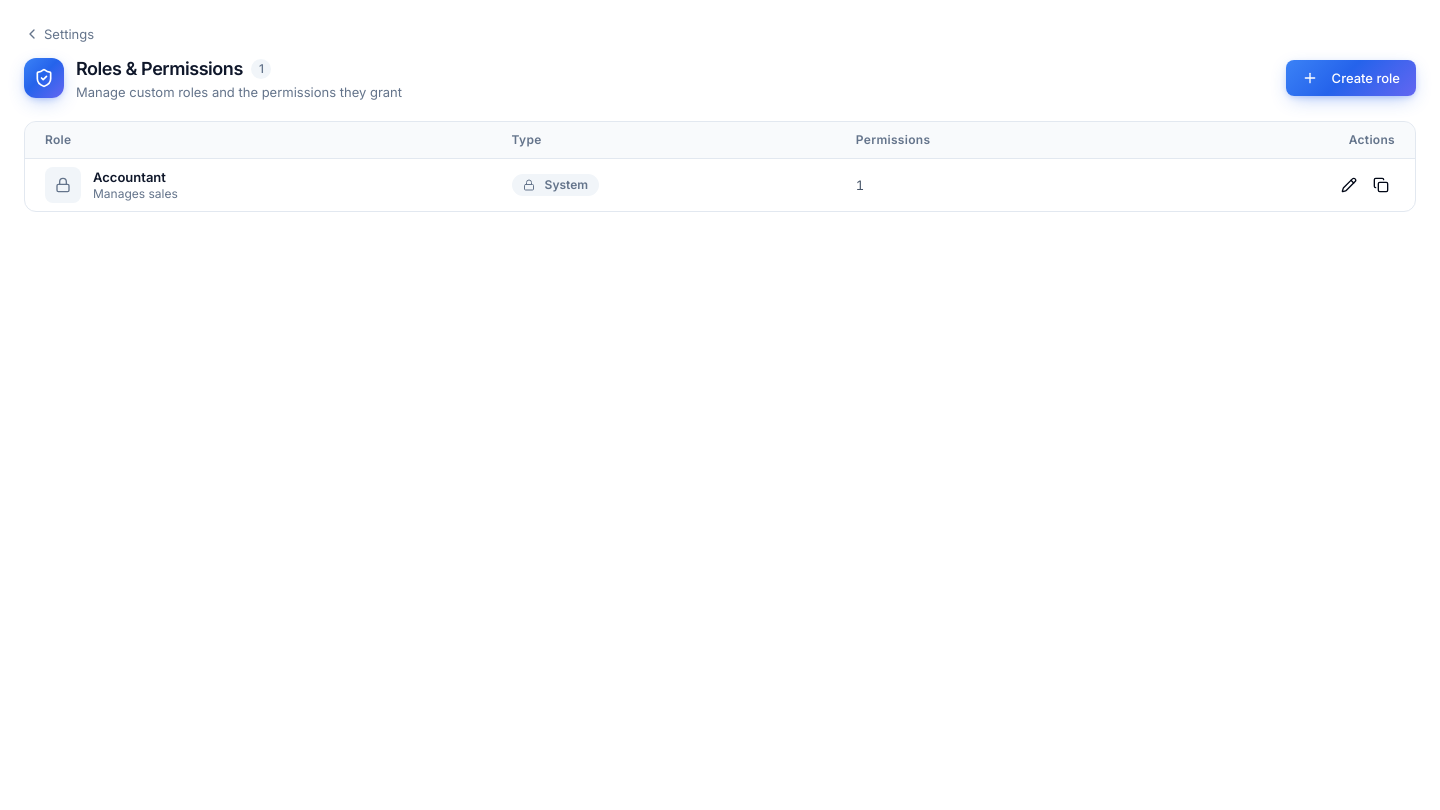
Test: RolesView › lets a non-Owner system role's permissions be edited with a locked name
Click the button named "edit accountant". click: click(1349, 184)
box: [1335,170,1363,198]
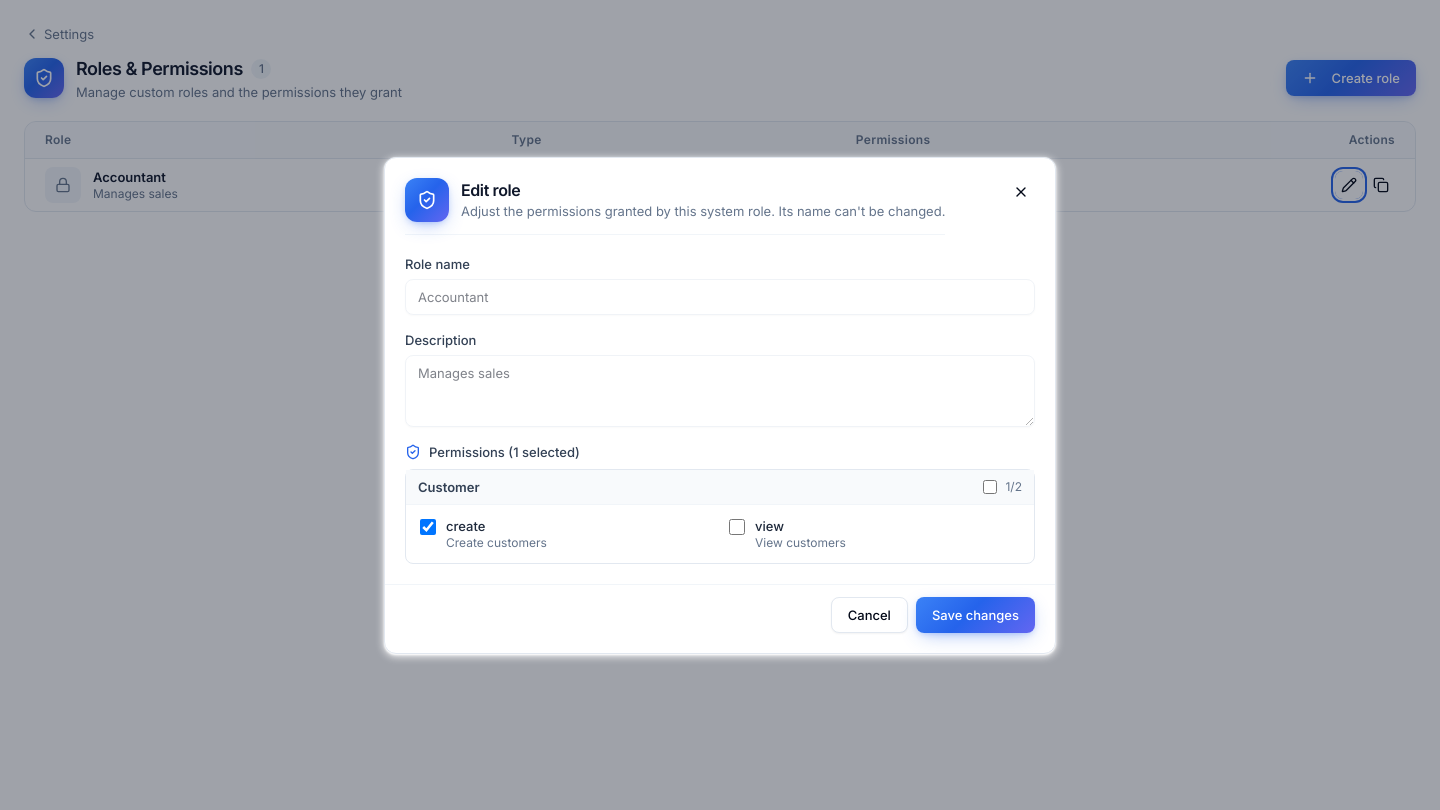
Result: the dialog "Edit role" is shown
Result: the field labelled "Role name" is disabled at [405,278,1035,314]
